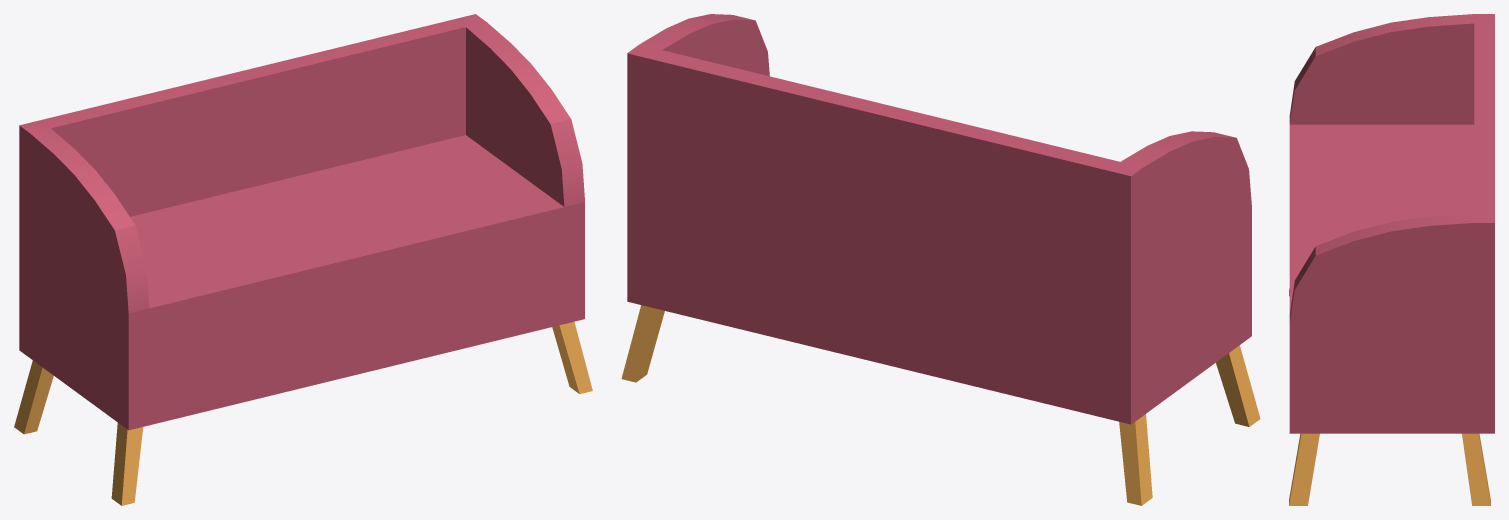
Rendered from Shofa_Level_03.fbx.
3 views of the same model, side by side, from view 1: azimuth 30°, elevation 25°; view 2: azimuth 150°, elevation 25°; view 3: azimuth 270°, elevation 25° (orthographic). The views are drawn at different scales.
Parts seen in each view (by area): view 1: Shofa_Level_03; view 2: Shofa_Level_03; view 3: Shofa_Level_03.
Boxes of the visible parts, x1=… form: Shofa_Level_03: x1=14, y1=14, x2=592, y2=505; Shofa_Level_03: x1=621, y1=14, x2=1260, y2=505; Shofa_Level_03: x1=1289, y1=14, x2=1494, y2=505.
Size of the model in its own units: 409 by 247 by 165.
